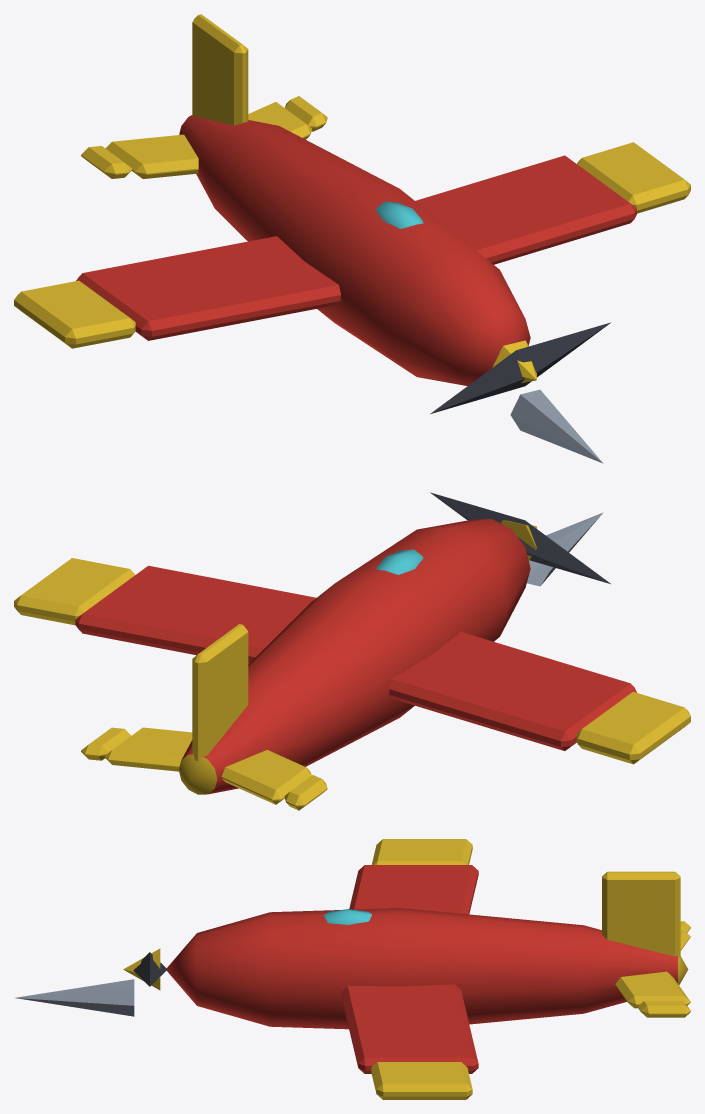
3 views of the same model, one above another, from view 1: azimuth 30°, elevation 25°; view 2: azimuth 150°, elevation 25°; view 3: azimuth 270°, elevation 25° (orthographic). The views are drawn at different scales.
Visible parts, largest first — view 1: as_0_base, as_1_torreta; view 2: as_0_base, as_1_torreta; view 3: as_0_base, as_1_torreta.
Part boxes in pixels (<box>): as_0_base: <box>14,14,690,463</box>; as_1_torreta: <box>430,322,610,413</box>; as_0_base: <box>14,512,690,810</box>; as_1_torreta: <box>430,492,610,583</box>; as_0_base: <box>15,839,690,1099</box>; as_1_torreta: <box>123,948,166,990</box>.
Bounding box in the file's own units: 1.13 × 0.323 × 1.3.
